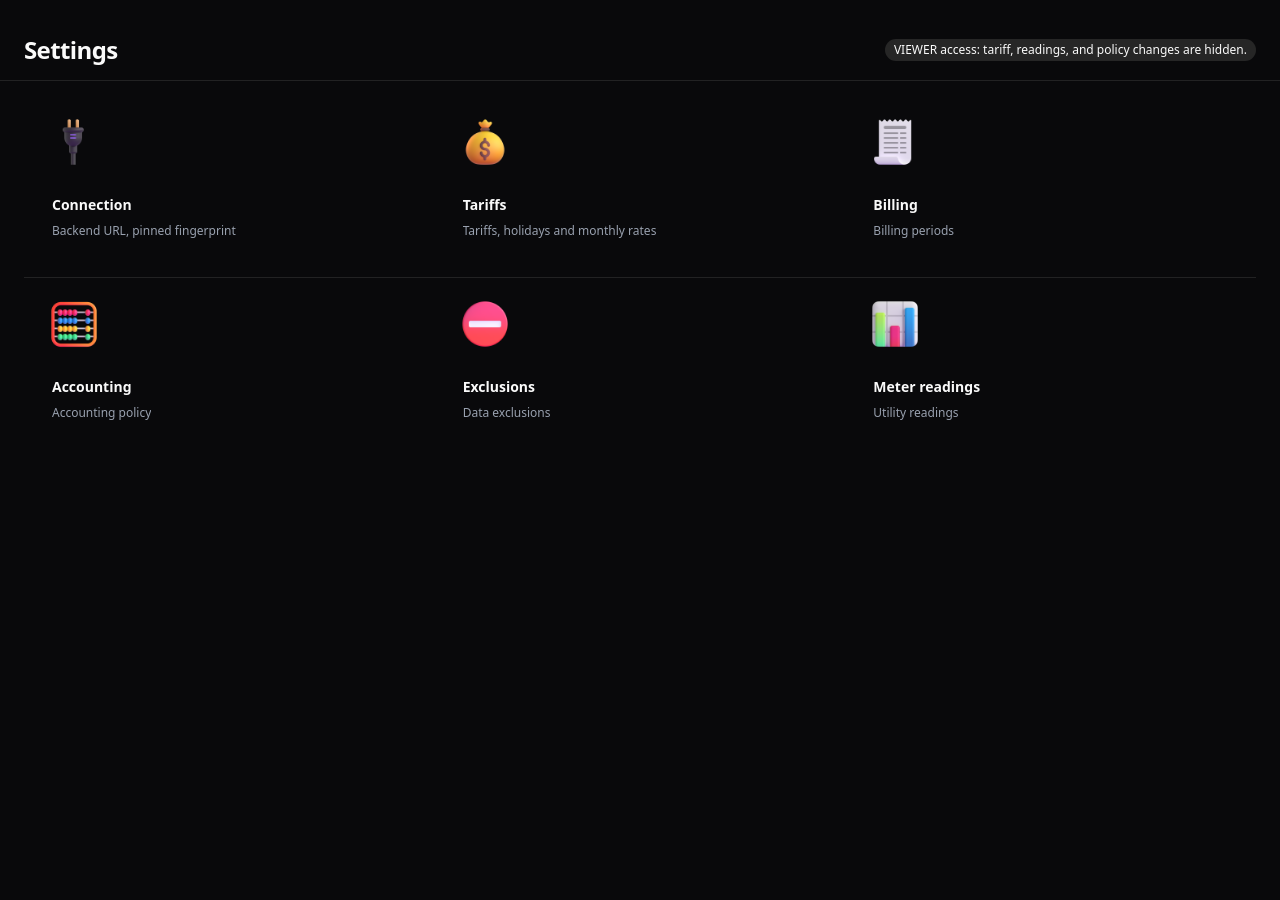
Test case: Settings mutation visibility › hides every mutating tariff, holiday, rate, reading and exclusion form for VIEWER
Click the button "Tariffs Tariffs, holidays and monthly rates".
click(485, 142)  # box top-left (435, 97), bottom-right (845, 278)
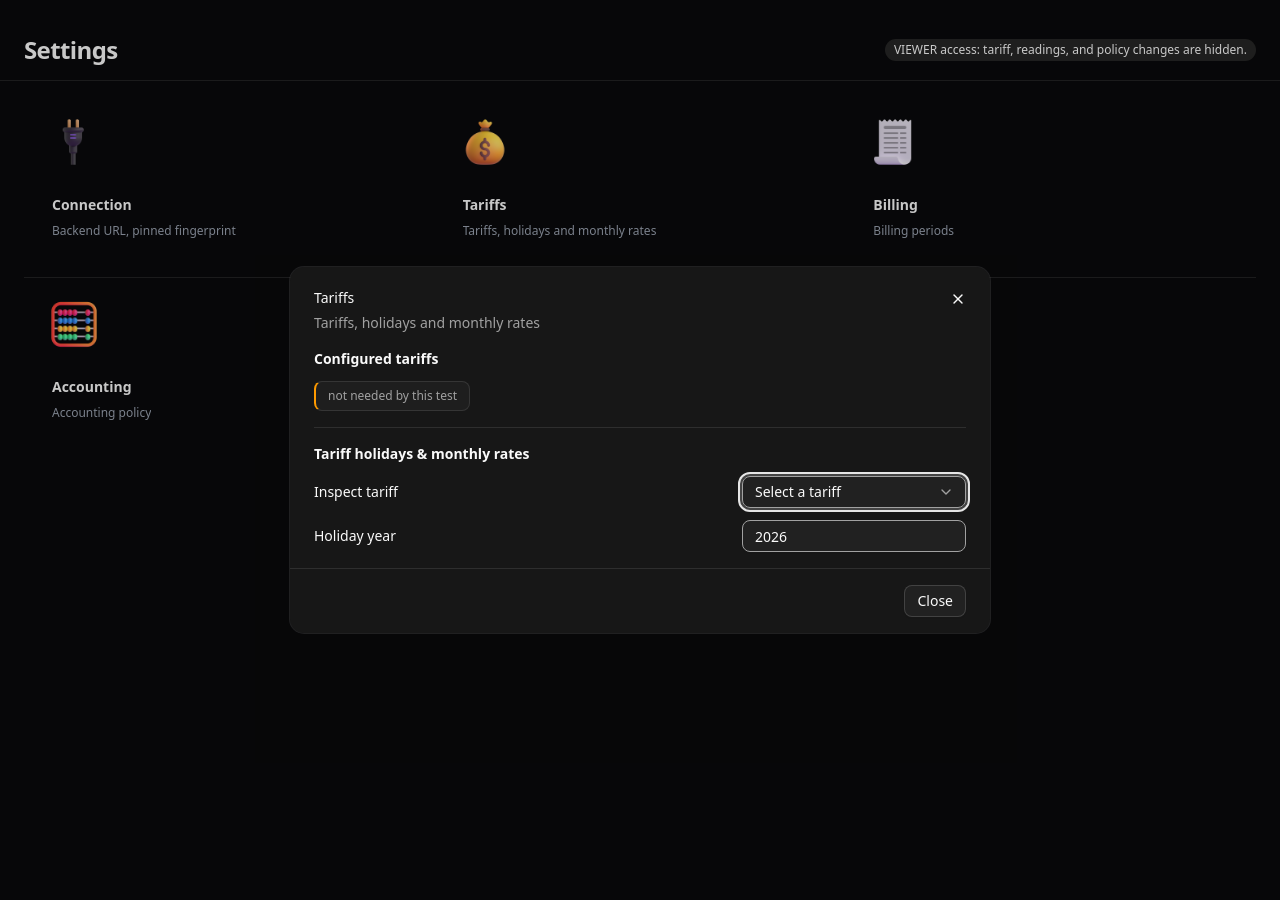
Now the dialog is shown, box top-left (290, 267), bottom-right (990, 633)
